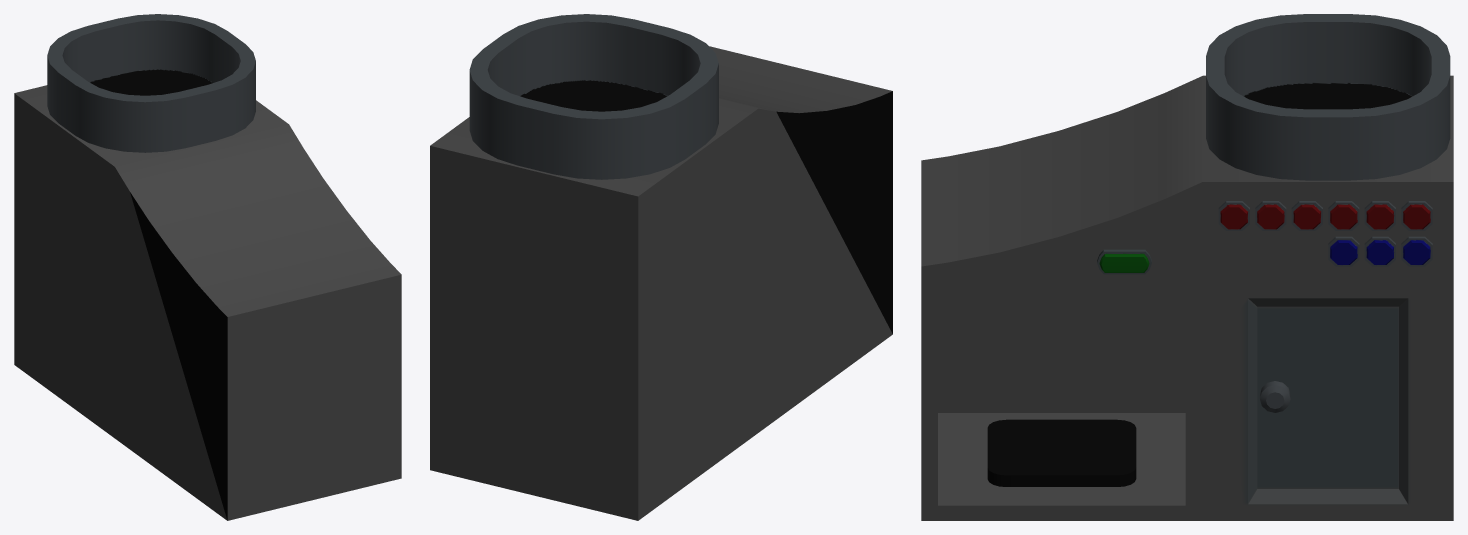
Rendered from 3dPrinter.fbx.
3 renders of one model, left to right at view 1: azimuth 30°, elevation 25°; view 2: azimuth 150°, elevation 25°; view 3: azimuth 270°, elevation 25°, orthographic. The views are drawn at different scales.
Visible parts, largest first — view 1: 3d_printer; view 2: 3d_printer; view 3: 3d_printer.
Part boxes in pixels (x1=…): 3d_printer: x1=14, y1=14, x2=401, y2=520; 3d_printer: x1=430, y1=14, x2=892, y2=520; 3d_printer: x1=921, y1=14, x2=1453, y2=520.
Bounding box in the file's own units: 207 × 353 × 424.
